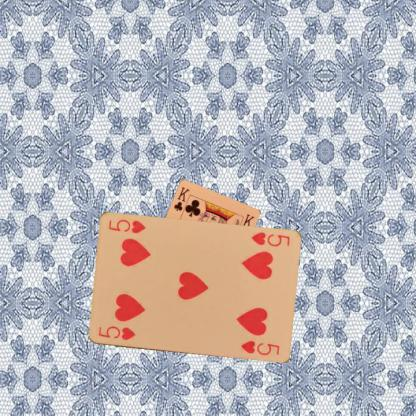5h: (248, 230, 290, 248), (96, 323, 136, 341)
Kc: (171, 185, 191, 213)
